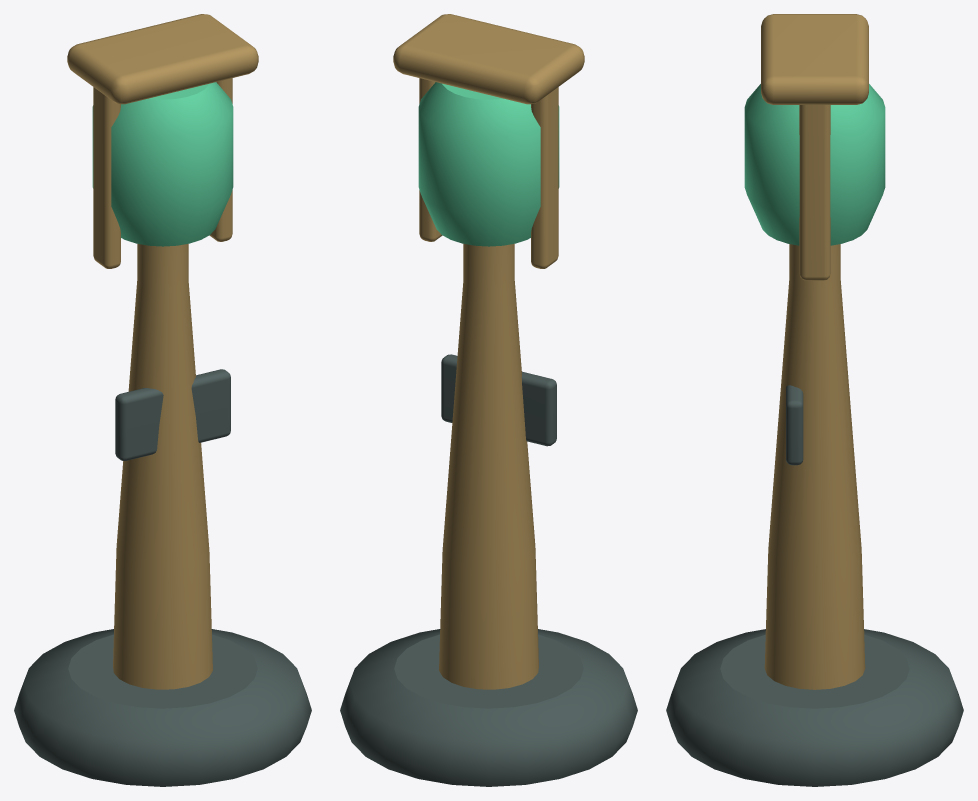
The model's file is echo-crossing-marker.glb.
3 views of the same model, side by side, from view 1: azimuth 30°, elevation 25°; view 2: azimuth 150°, elevation 25°; view 3: azimuth 270°, elevation 25° (orthographic).
Visible parts, largest first — view 1: Weathered crossing brass, Dark iron footing, Green signal lens; view 2: Weathered crossing brass, Dark iron footing, Green signal lens; view 3: Weathered crossing brass, Dark iron footing, Green signal lens.
Boxes of the visible parts, box(x1,y1,x2,y2) form: Weathered crossing brass: box(67, 14, 258, 689); Dark iron footing: box(14, 369, 311, 786); Green signal lens: box(92, 82, 233, 246); Weathered crossing brass: box(393, 14, 584, 689); Dark iron footing: box(340, 354, 637, 786); Green signal lens: box(418, 82, 559, 246); Weathered crossing brass: box(761, 14, 868, 689); Dark iron footing: box(666, 385, 963, 786); Green signal lens: box(744, 84, 885, 245).
Size of the model in its own units: 0.44 by 1.11 by 0.44.
